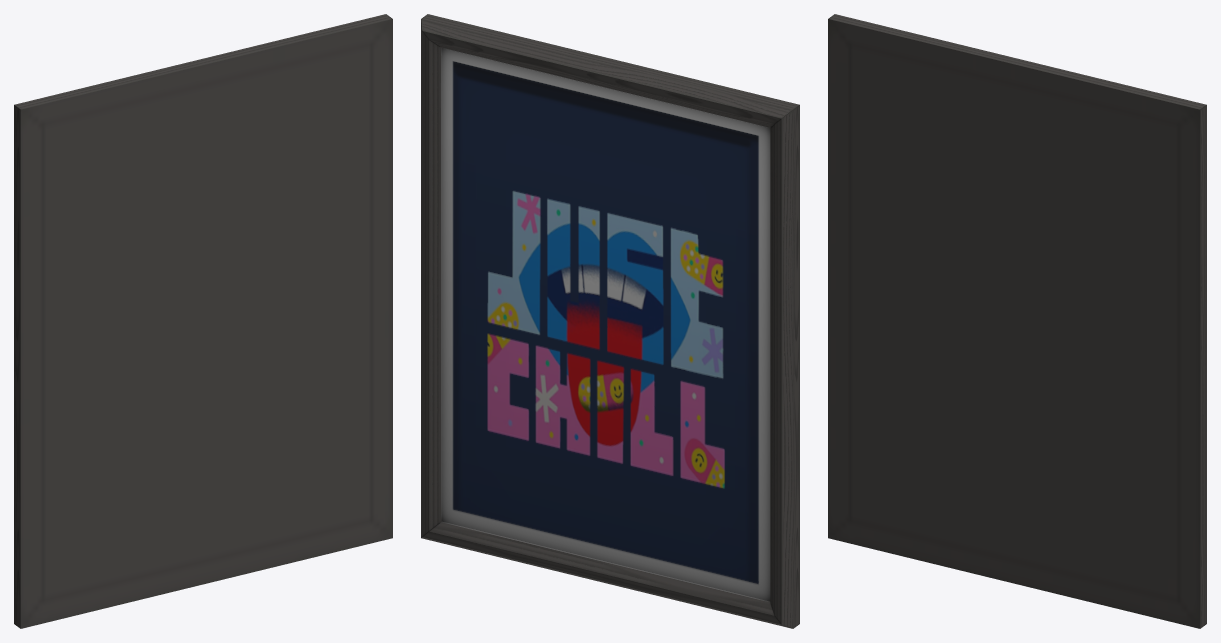
The model's file is P_HangingPictures_008_S1_M01.obj.
3 views of the same model, side by side, from view 1: azimuth 30°, elevation 25°; view 2: azimuth 150°, elevation 25°; view 3: azimuth 330°, elevation 25° (orthographic).
Size of the model in its own units: 0.9 by 1.2 by 0.05.
1 material, 1 textured.
